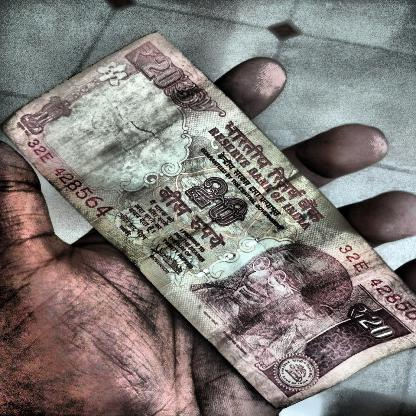Rs20: (175, 167, 261, 233), (120, 38, 194, 94), (338, 298, 404, 347)
